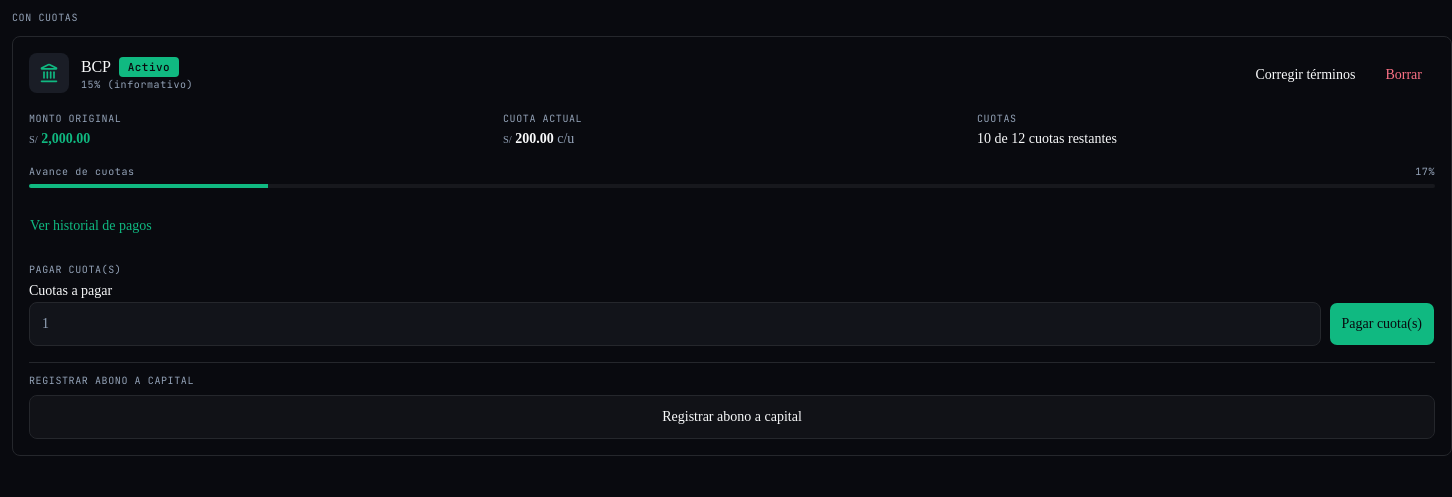
Test: InstallmentLoanList › shows an error and does not apply the change when paying more installments than remain (FR-021)
Expected: the heading "BCP Activo" is shown, [81,55,193,79]
Step 1. Type "99" into the field labelled "Cuotas a pagar" → (675, 324), box [29,302,1320,346]
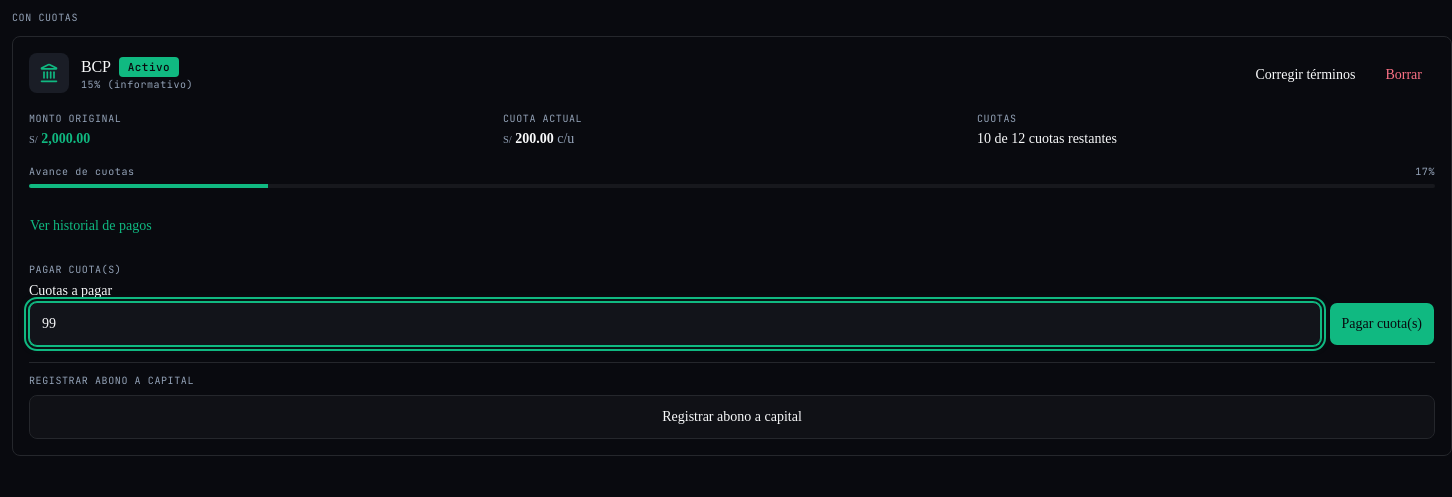
Step 2. Click the button "Pagar cuota(s)" → (1382, 324), box [1328,302,1435,346]
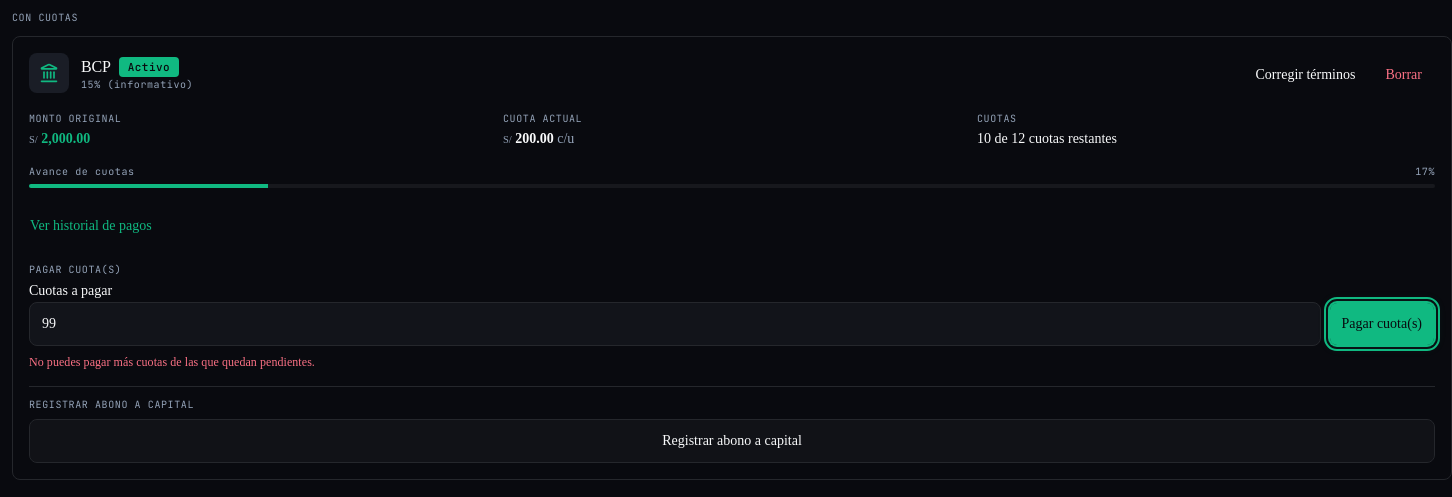
Expected: the text "No puedes pagar más cuotas de las que quedan pendientes." is shown, [29,355,315,369]
